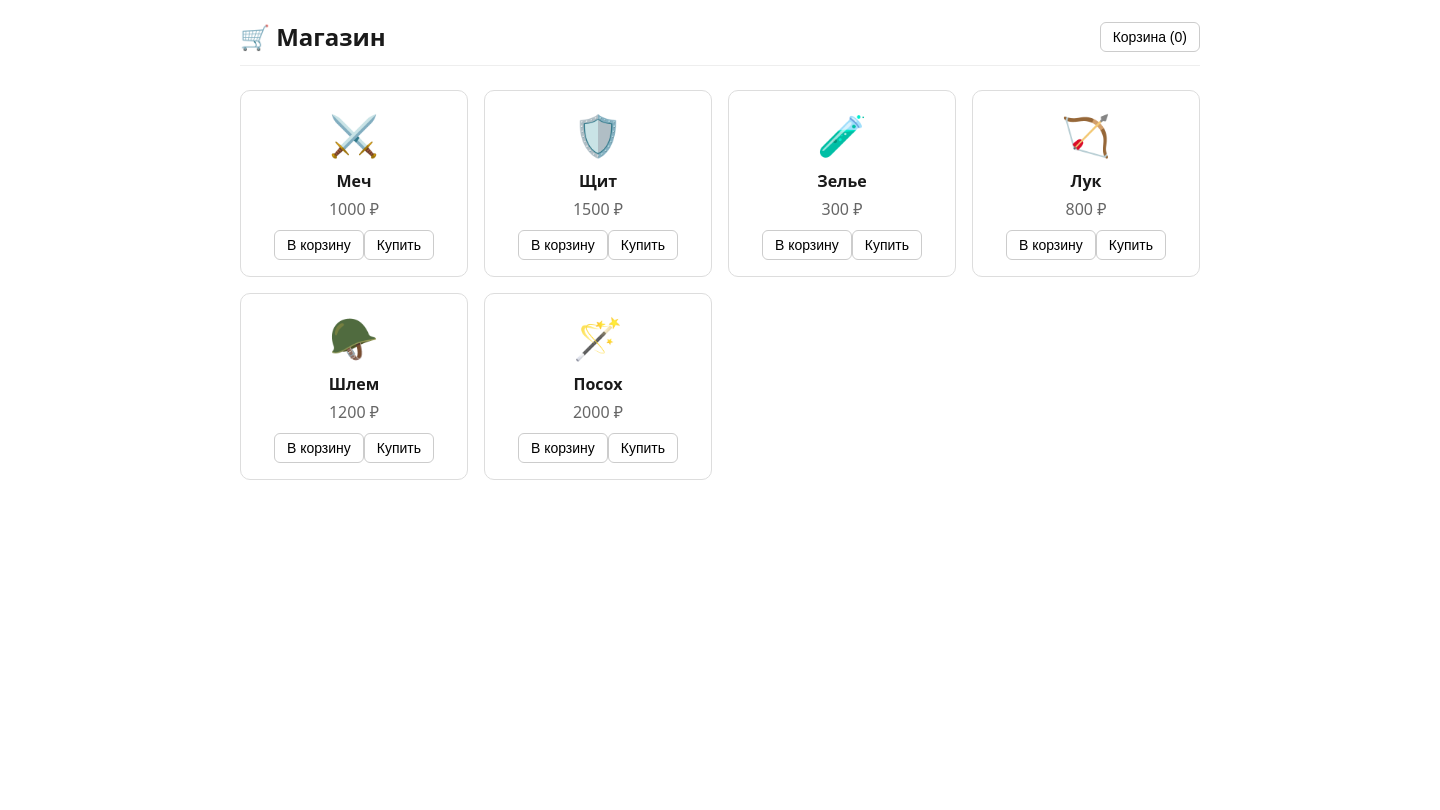
App — витрина и корзина › закрывает форму оформления по кнопке Отмена
Click the button "Купить" below "1000" at [399, 245], box [364,230,434,260]
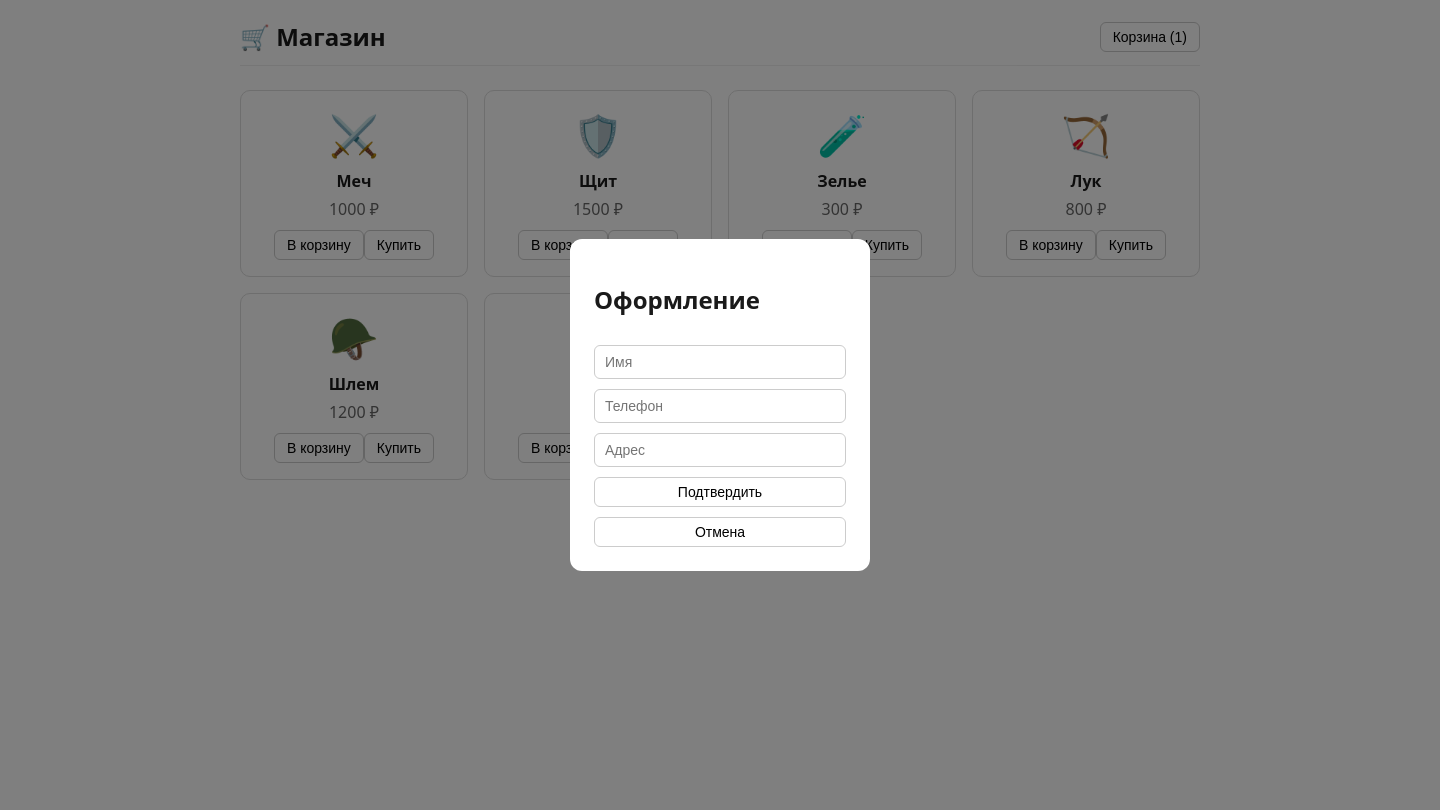
Result: the field with placeholder "Имя" is shown at [594,345,846,379]
Click the button with aria-label "Отменить оформление" at [720, 532], box [594,517,846,547]
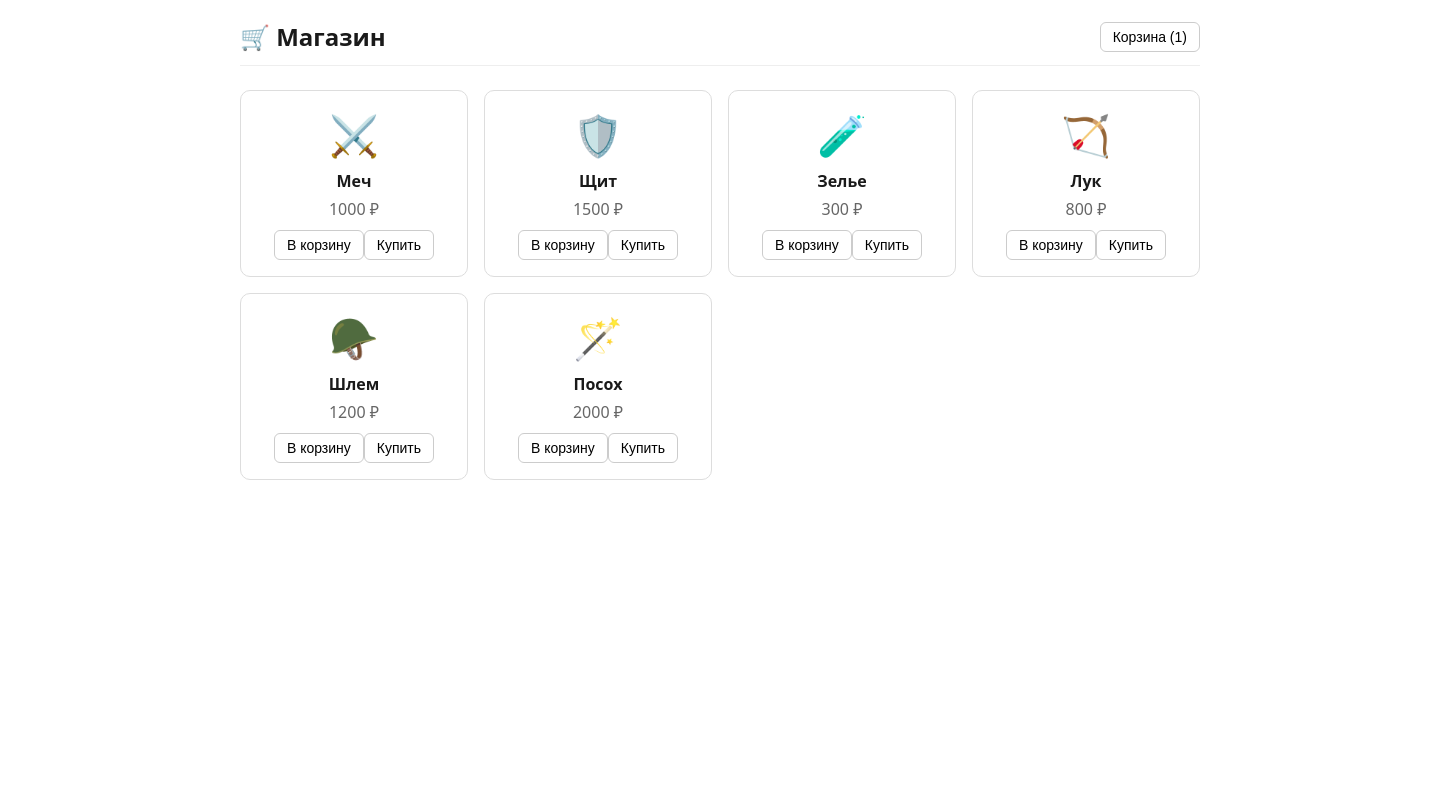
Result: the field with placeholder "Имя" is gone
